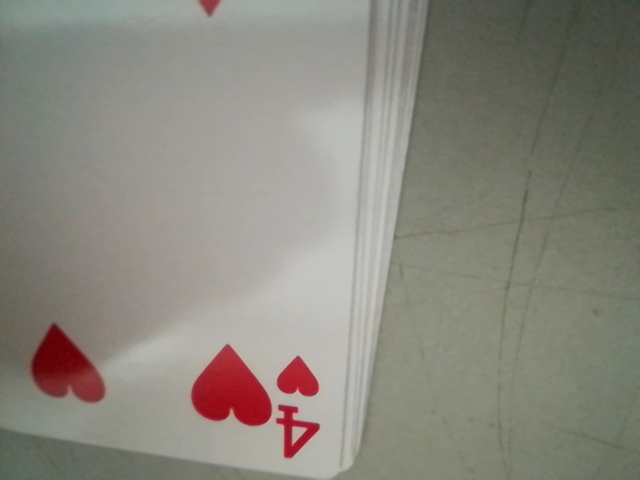hx 4: (266, 349, 336, 467)
